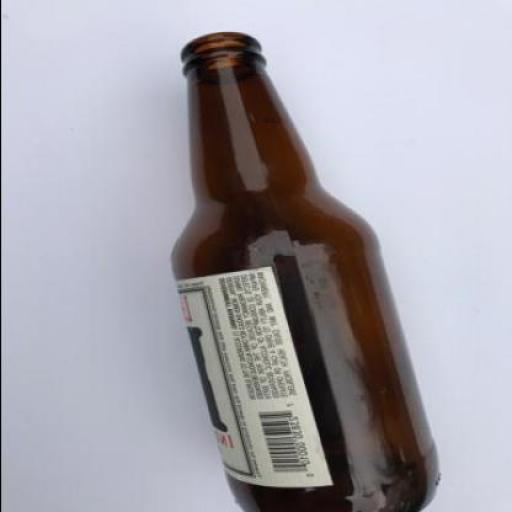glass: (168, 31, 436, 511)
